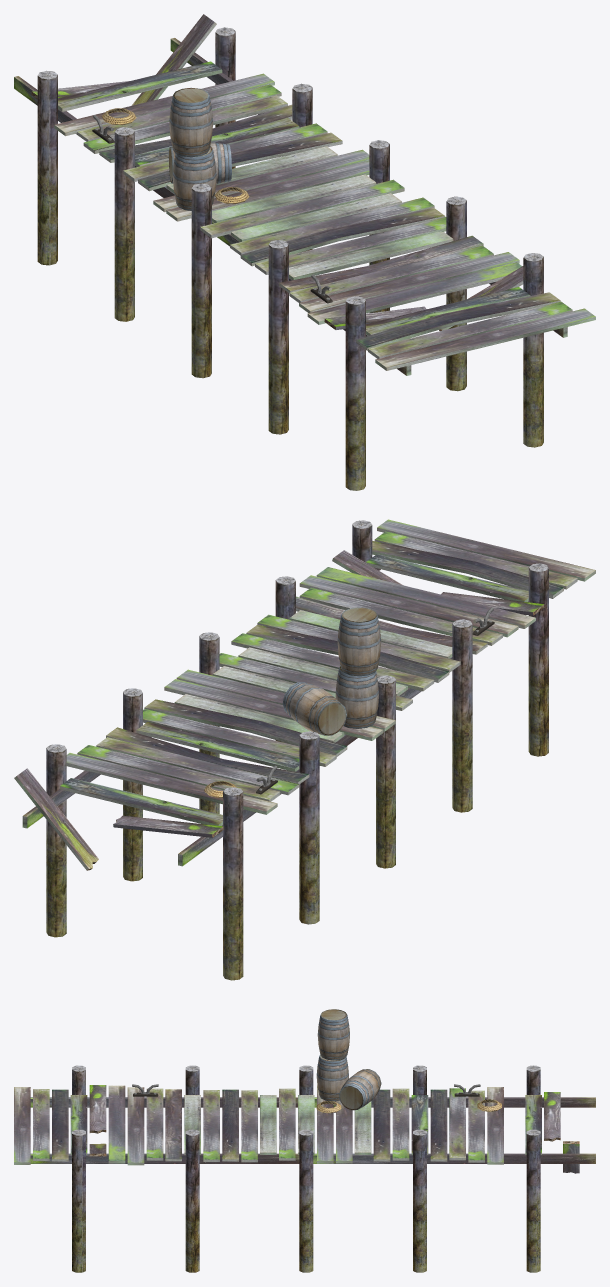
Rendered from dock.fbx.
The picture shows the model from 3 angles, top to bottom: view 1: azimuth 30°, elevation 25°; view 2: azimuth 150°, elevation 25°; view 3: azimuth 270°, elevation 25°; orthographic projection. The views are drawn at different scales.
Visible parts, largest first — view 1: polySurface248; view 2: polySurface248; view 3: polySurface248.
Part boxes in pixels (x1,y1,x2,y2): polySurface248: (14,14,595,490); polySurface248: (14,519,595,980); polySurface248: (14,1009,595,1272).
Size of the model in its own units: 4.82 by 5.65 by 15.37.
